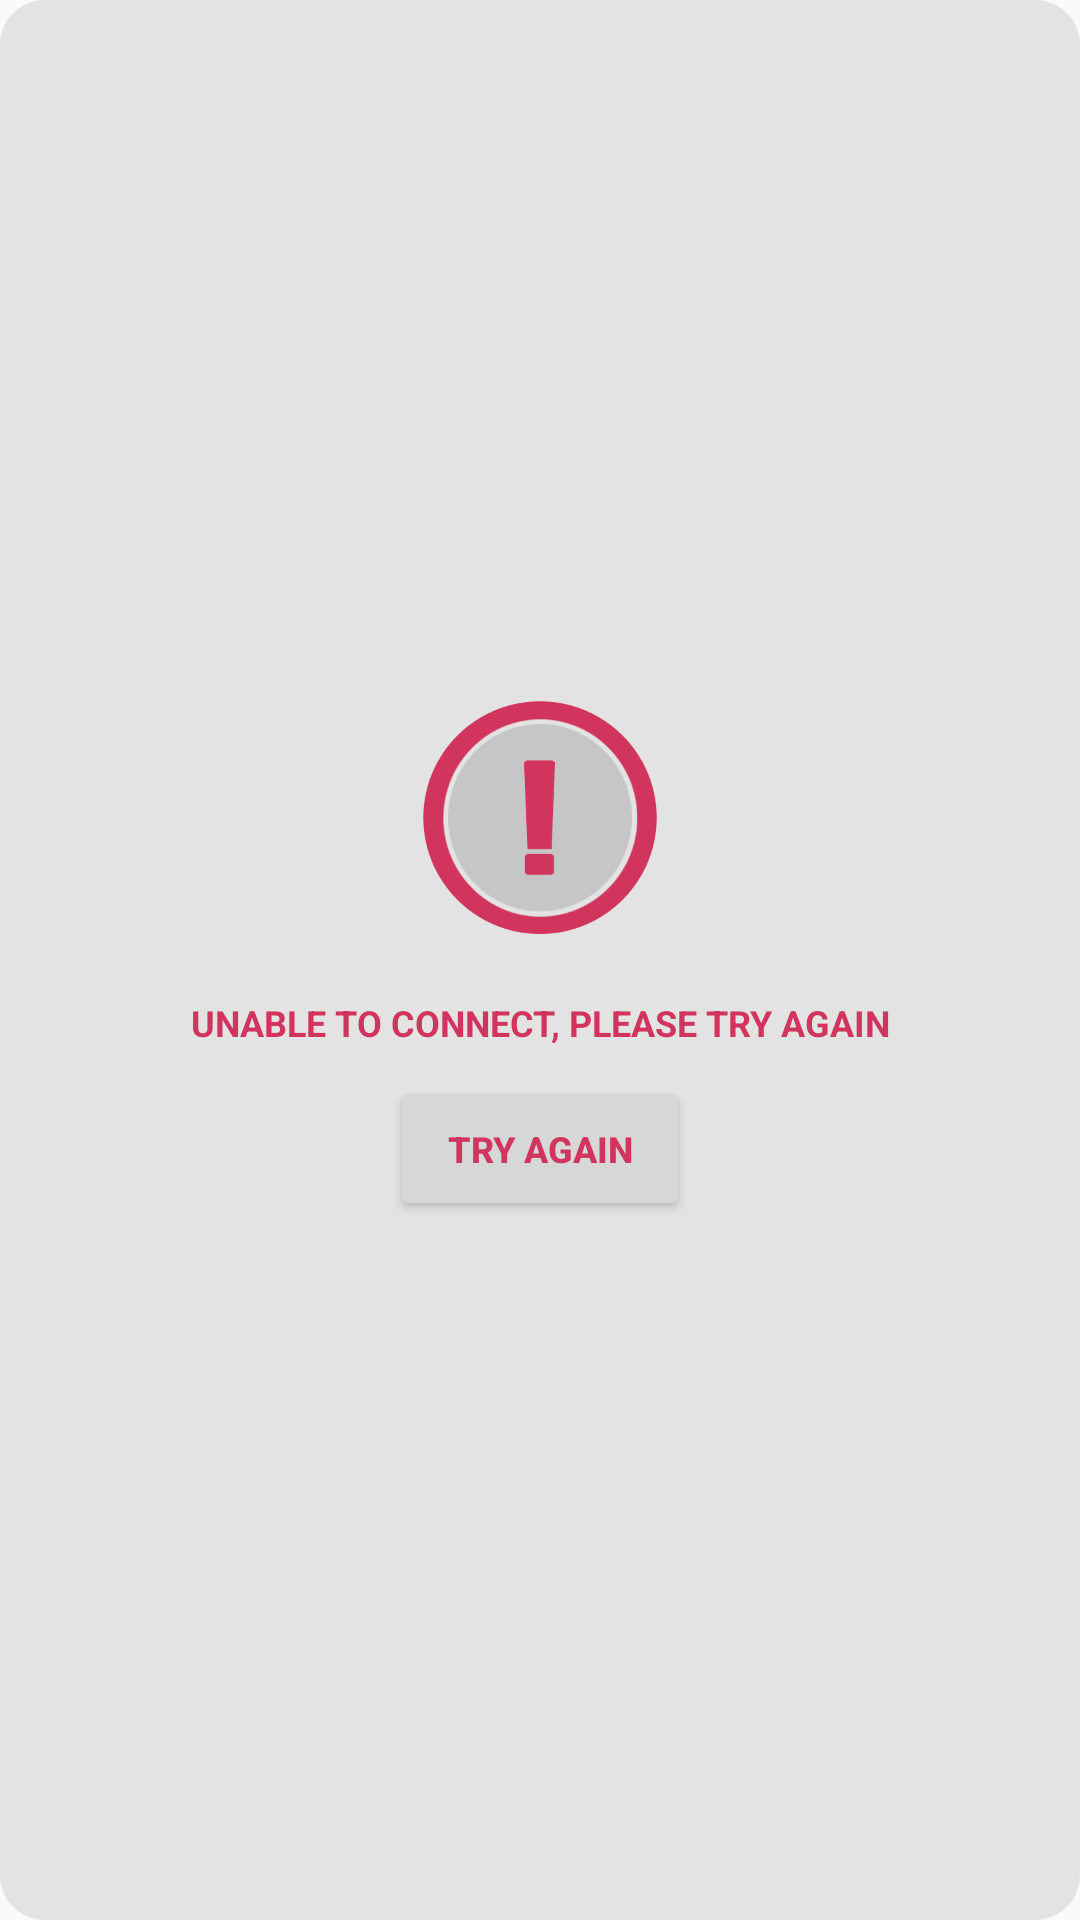

Where to tap for icons on this 1080w x 1920h app screen, as (x=x, y=y):
error: (x=540, y=817)
